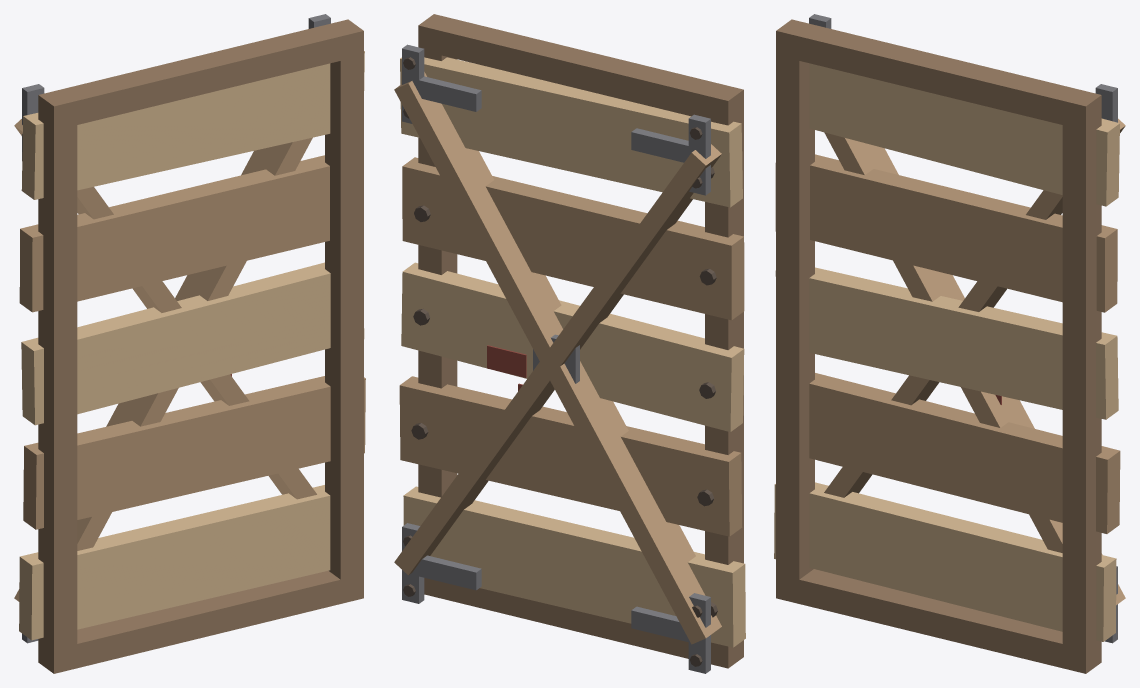
The model's file is reinf-door.fbx.
3 renders of one model, left to right at view 1: azimuth 30°, elevation 25°; view 2: azimuth 150°, elevation 25°; view 3: azimuth 330°, elevation 25°, orthographic.
Parts seen in each view (by area): view 1: ReinfDoor; view 2: ReinfDoor; view 3: ReinfDoor.
Boxes of the visible parts, x1,y1,x2,y2 form: ReinfDoor: [14, 14, 365, 673]; ReinfDoor: [394, 14, 745, 673]; ReinfDoor: [774, 14, 1125, 673].
Size of the model in its own units: 4.31 by 7 by 0.87.
